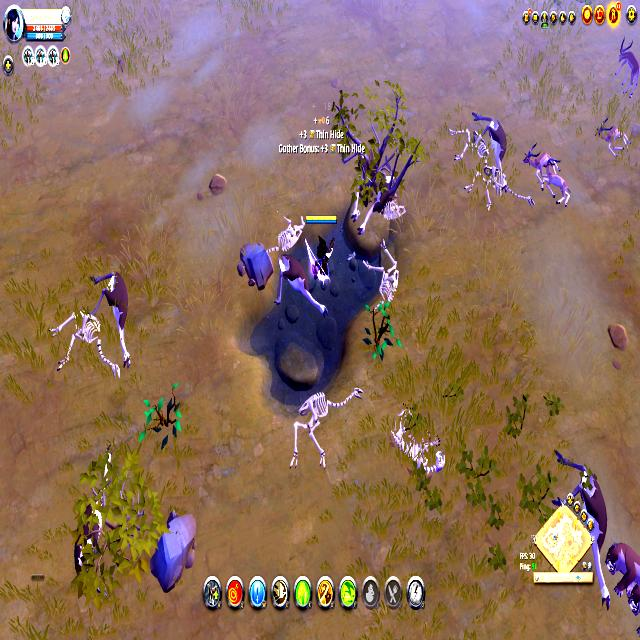mob: (550, 443, 614, 610), (72, 441, 122, 592), (348, 133, 398, 241), (90, 262, 136, 373), (272, 249, 332, 325), (521, 135, 572, 213), (606, 536, 640, 636), (472, 111, 509, 166), (597, 118, 630, 159)
ore: (615, 36, 640, 100)
red: (304, 210, 338, 284)
